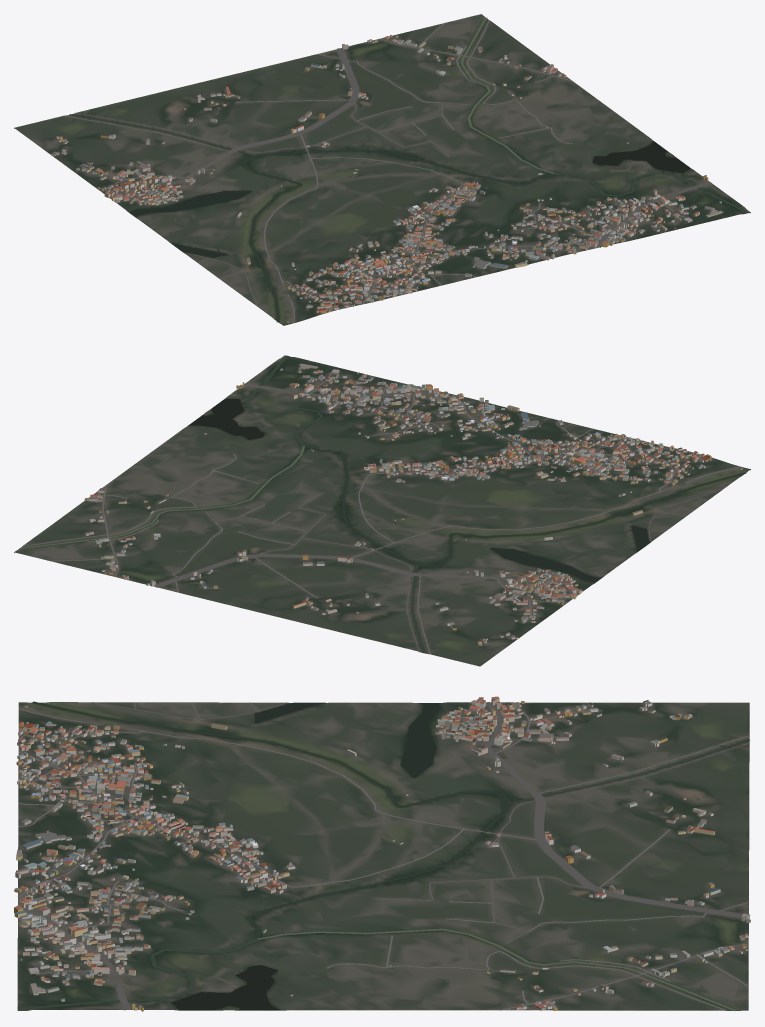
3 renders of one model, top to bottom at view 1: azimuth 30°, elevation 25°; view 2: azimuth 150°, elevation 25°; view 3: azimuth 270°, elevation 25°, orthographic. The views are drawn at different scales.
Parts seen in each view (by area): view 1: ground, buildings, roads, water; view 2: ground, buildings, roads, water; view 3: ground, buildings, water, roads.
Boxes of the visible parts, <box> form: ground: <box>14,14,750,325</box>; buildings: <box>51,35,723,322</box>; roads: <box>64,20,711,323</box>; water: <box>69,17,748,322</box>; ground: <box>14,355,750,666</box>; buildings: <box>84,363,742,645</box>; roads: <box>22,372,740,654</box>; water: <box>19,355,746,653</box>; ground: <box>17,702,749,1010</box>; buildings: <box>14,696,750,1011</box>; water: <box>17,701,750,1011</box>; roads: <box>17,702,750,1010</box>.
Bounding box in the file's own units: 1409 × 19.52 × 1413.
